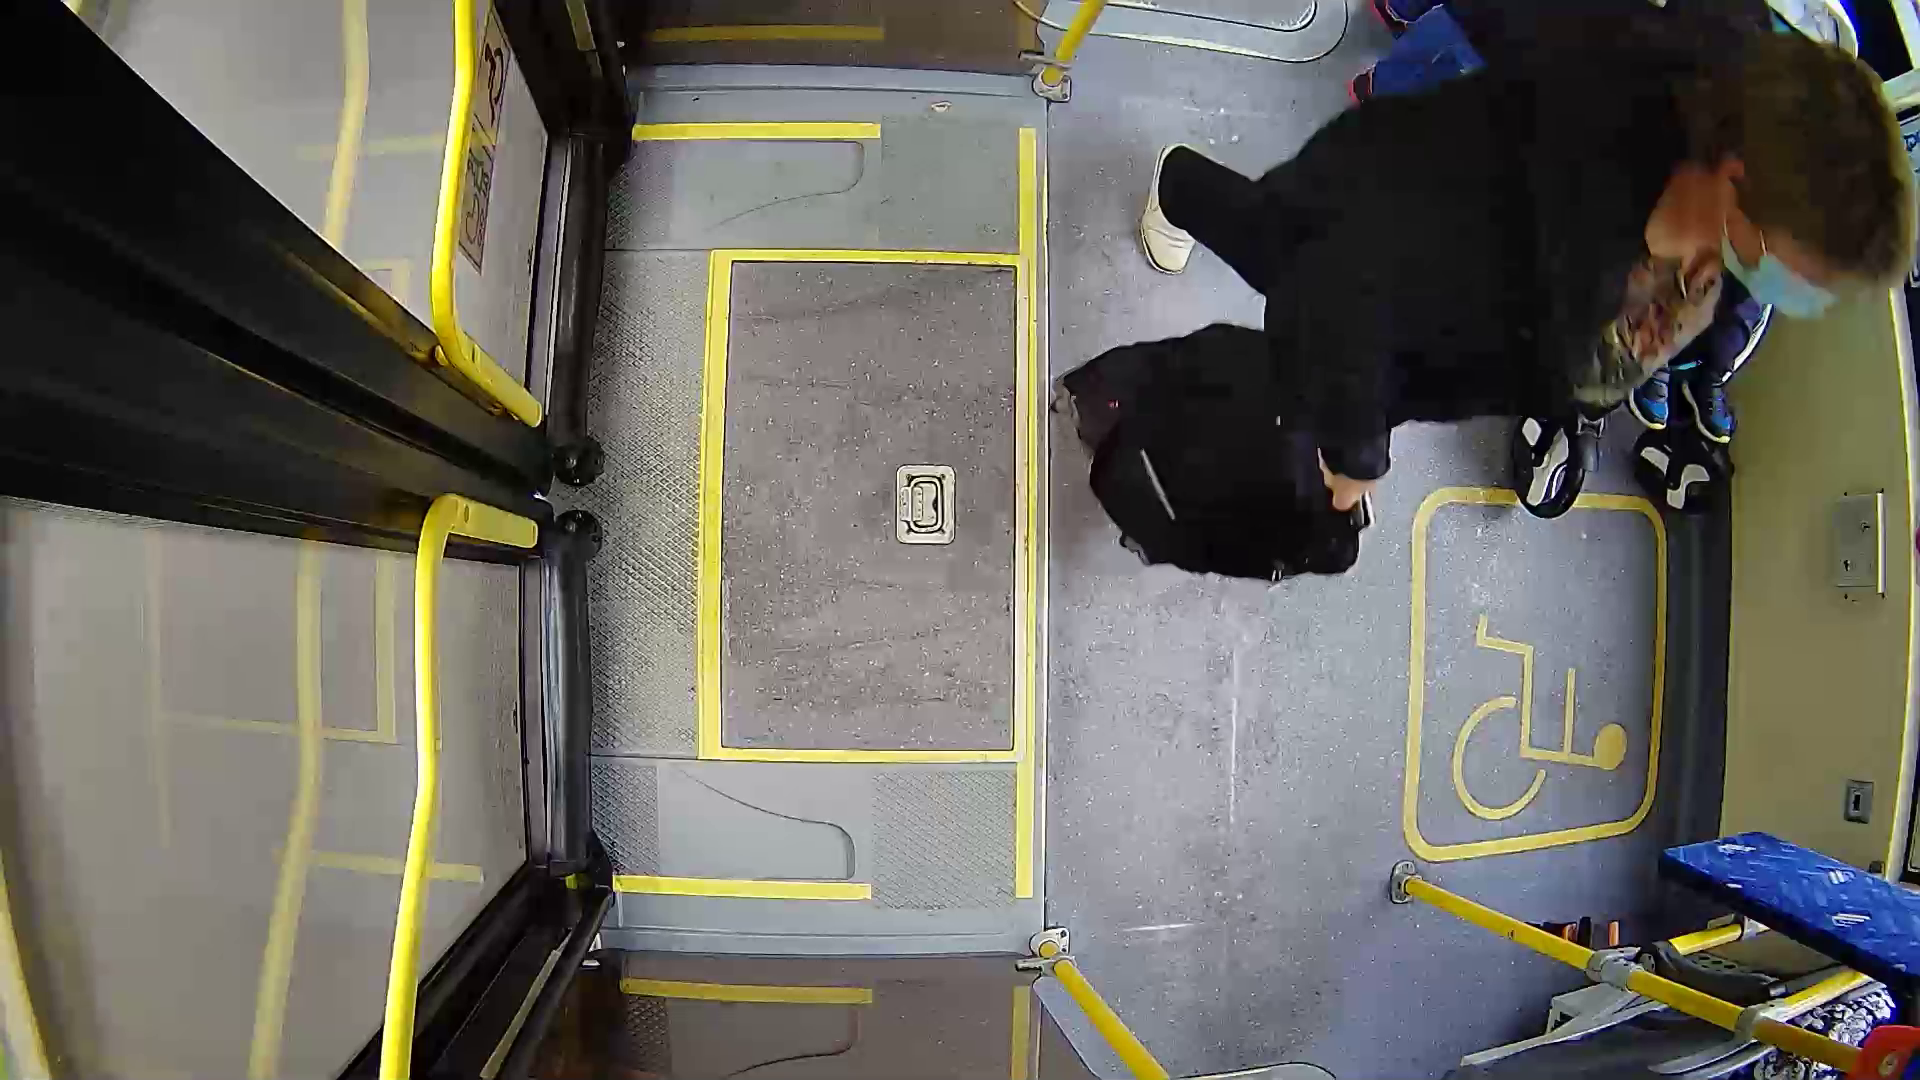person: (1068, 9, 1905, 579)
